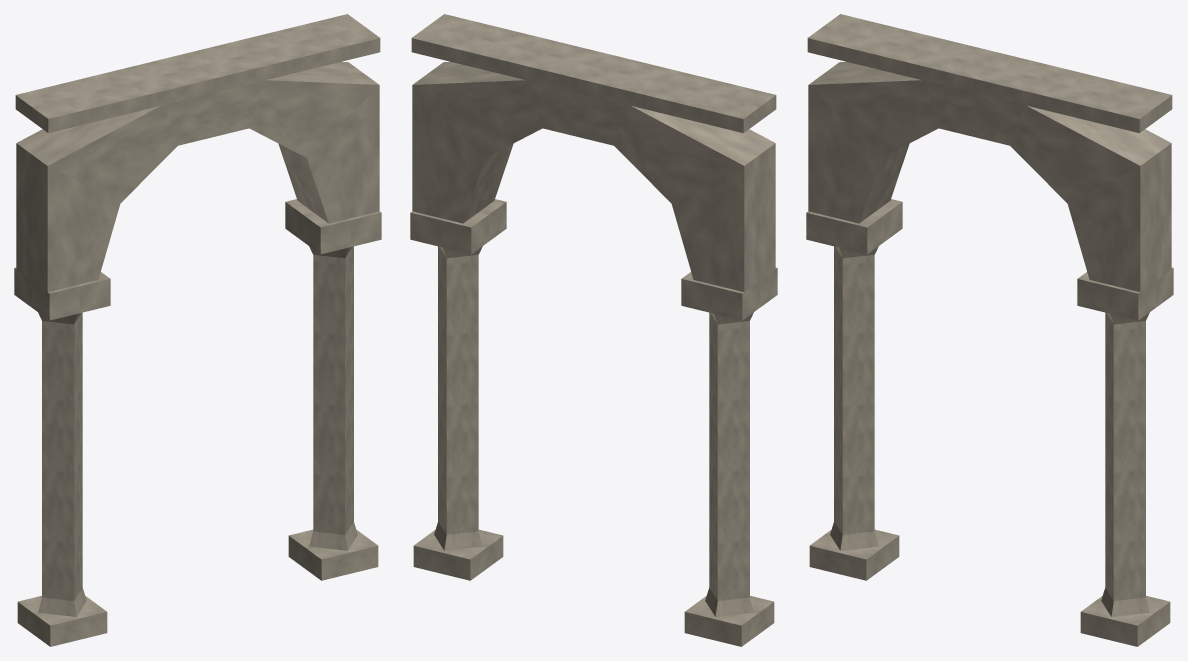
Rendered from Arch_Stone_1_LOD2.gltf.
3 views of the same model, side by side, from view 1: azimuth 30°, elevation 25°; view 2: azimuth 150°, elevation 25°; view 3: azimuth 330°, elevation 25° (orthographic).
Parts seen in each view (by area): view 1: Arch_Stone_1_LOD2; view 2: Arch_Stone_1_LOD2; view 3: Arch_Stone_1_LOD2.
Boxes of the visible parts, x1=… form: Arch_Stone_1_LOD2: x1=14, y1=14, x2=381, y2=646; Arch_Stone_1_LOD2: x1=410, y1=14, x2=777, y2=646; Arch_Stone_1_LOD2: x1=806, y1=14, x2=1173, y2=646.
Size of the model in its own units: 4.9 by 7.45 by 0.9.
1 material, 1 textured.
